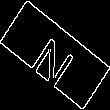N_NE: (28, 23, 82, 87)
